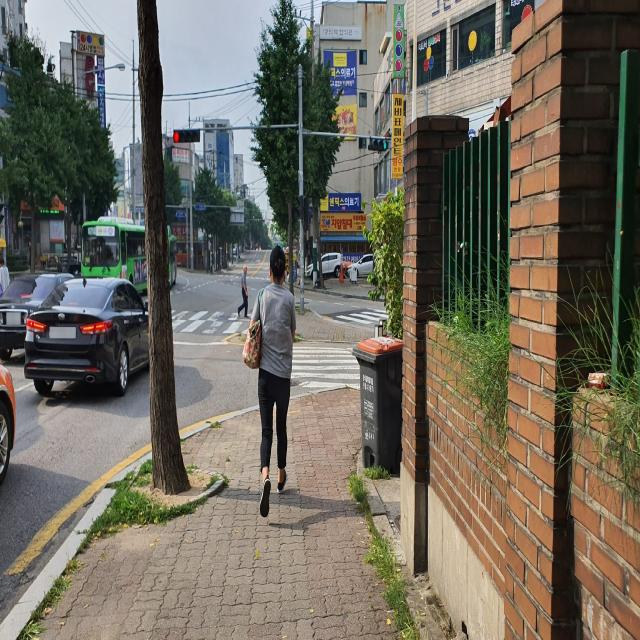횡단보도: (291, 346, 360, 388), (169, 310, 244, 333), (342, 309, 386, 322)
